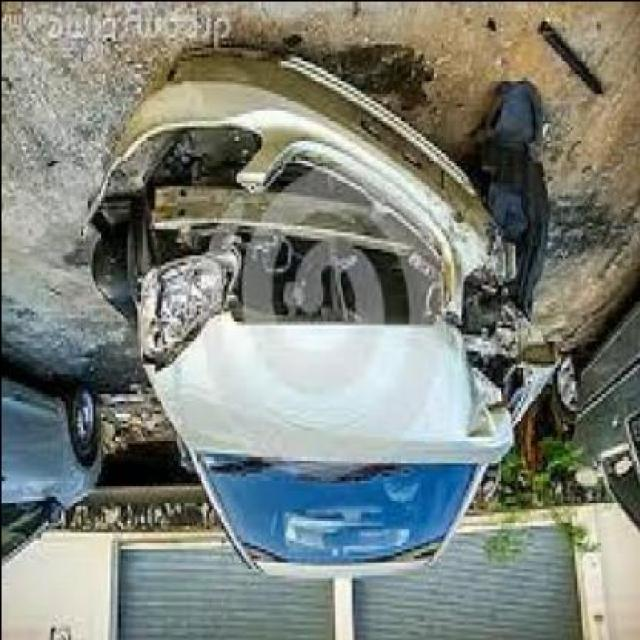damage: (86, 48, 562, 461)
